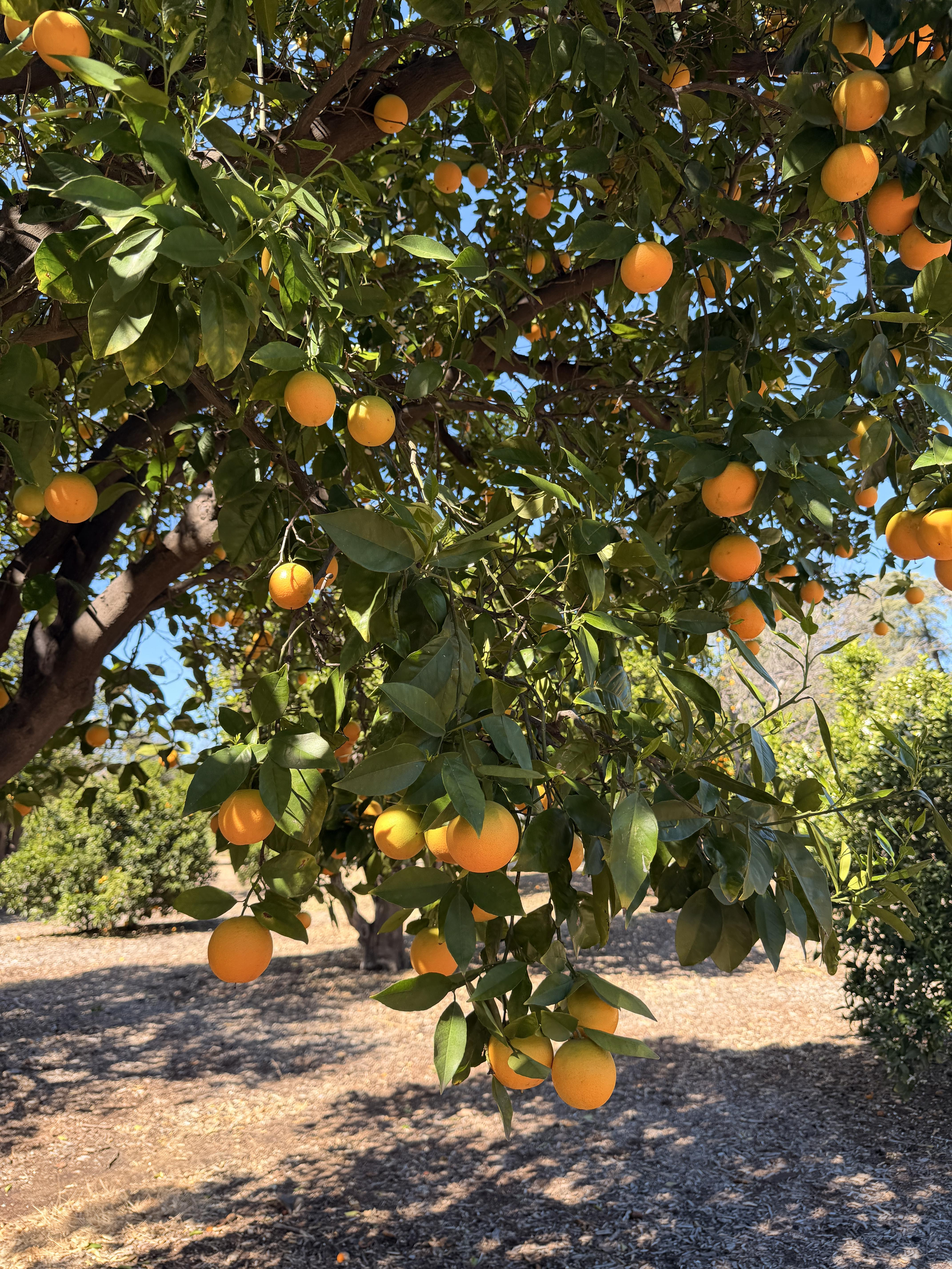orange: (447, 802, 519, 873), (552, 1039, 616, 1110), (208, 916, 272, 983), (487, 1035, 555, 1089), (32, 10, 90, 73), (832, 70, 889, 131), (821, 143, 879, 202), (218, 789, 275, 846), (701, 461, 759, 517), (866, 179, 920, 235), (284, 370, 336, 427), (568, 981, 620, 1035), (374, 805, 425, 860), (621, 241, 673, 294), (44, 473, 98, 523), (710, 534, 761, 582), (348, 396, 396, 446), (900, 225, 952, 270), (410, 927, 456, 976), (846, 415, 892, 461), (269, 563, 314, 609), (824, 17, 868, 64), (885, 510, 926, 560), (918, 508, 952, 560), (847, 29, 886, 70), (728, 598, 766, 640), (693, 257, 731, 298), (890, 24, 934, 58), (374, 94, 408, 133), (4, 16, 38, 52), (424, 823, 454, 863), (221, 71, 254, 107), (433, 160, 462, 194), (14, 485, 44, 516), (314, 556, 338, 590), (661, 61, 691, 88), (525, 190, 551, 219), (84, 722, 109, 748), (568, 833, 584, 873), (527, 178, 554, 200), (800, 580, 824, 604), (467, 163, 488, 189), (935, 559, 952, 591), (854, 486, 878, 508), (526, 249, 546, 275), (716, 180, 741, 200), (760, 89, 778, 116), (471, 904, 499, 921), (834, 220, 857, 240), (253, 629, 274, 650), (930, 37, 948, 61), (421, 338, 442, 358), (551, 251, 570, 273), (158, 749, 178, 769), (904, 586, 925, 605), (335, 741, 353, 763), (226, 609, 246, 628), (343, 722, 360, 741), (525, 324, 542, 343), (296, 910, 312, 928), (317, 60, 333, 78), (873, 619, 889, 636), (210, 611, 227, 627), (245, 642, 262, 658), (30, 104, 46, 121), (14, 801, 32, 816), (342, 32, 353, 56), (764, 568, 781, 583), (0, 680, 9, 708), (16, 513, 34, 527), (372, 252, 387, 268), (835, 545, 852, 559), (779, 564, 796, 578), (868, 239, 884, 253), (140, 530, 154, 545), (542, 324, 556, 339), (744, 641, 759, 655), (66, 102, 79, 118), (28, 522, 41, 536), (297, 36, 308, 51), (933, 425, 949, 435), (214, 548, 226, 560), (21, 172, 32, 185), (0, 128, 5, 147), (306, 0, 320, 6), (246, 815, 247, 815), (428, 946, 428, 946), (399, 830, 400, 830), (59, 28, 59, 28), (96, 736, 96, 736)
